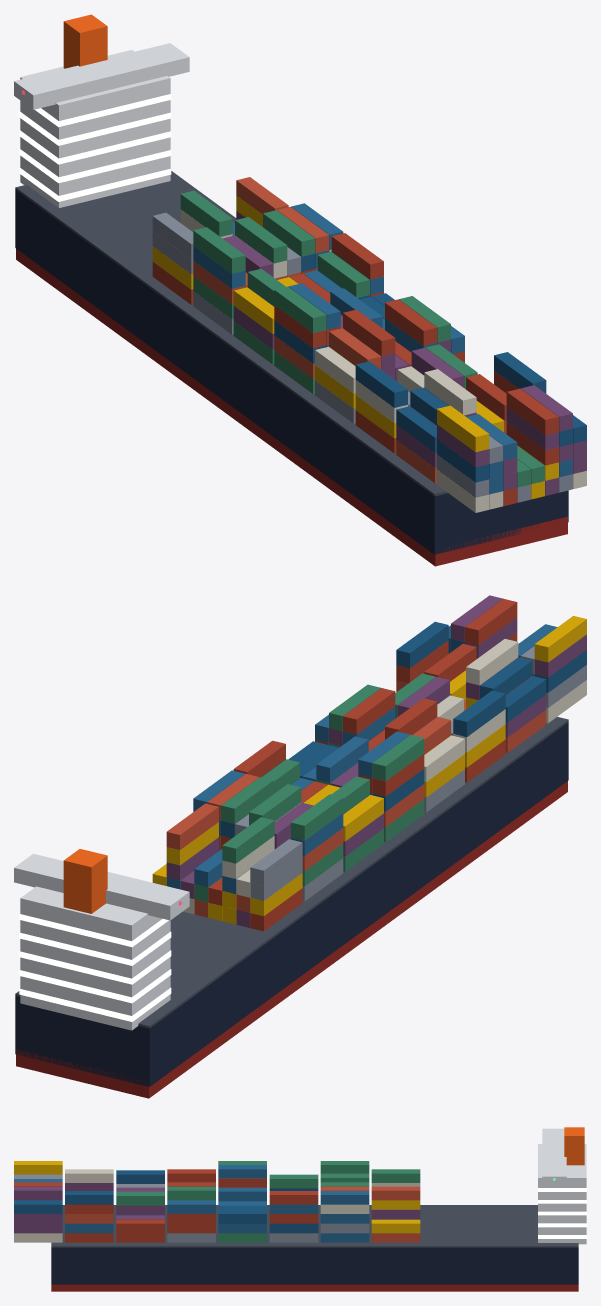
Rendered from container_ship.glb.
3 views of the same model, one above another, from view 1: azimuth 30°, elevation 25°; view 2: azimuth 150°, elevation 25°; view 3: azimuth 270°, elevation 25° (orthographic). The views are drawn at different scales.
Parts seen in each view (by area): view 1: ship; view 2: ship; view 3: ship.
Boxes of the visible parts, left/top/right/bottom form: ship: left=14, top=14, right=586, bottom=566; ship: left=14, top=595, right=586, bottom=1098; ship: left=14, top=1127, right=586, bottom=1291.
Bounding box in the file's own units: 28.2 × 38 × 141.
